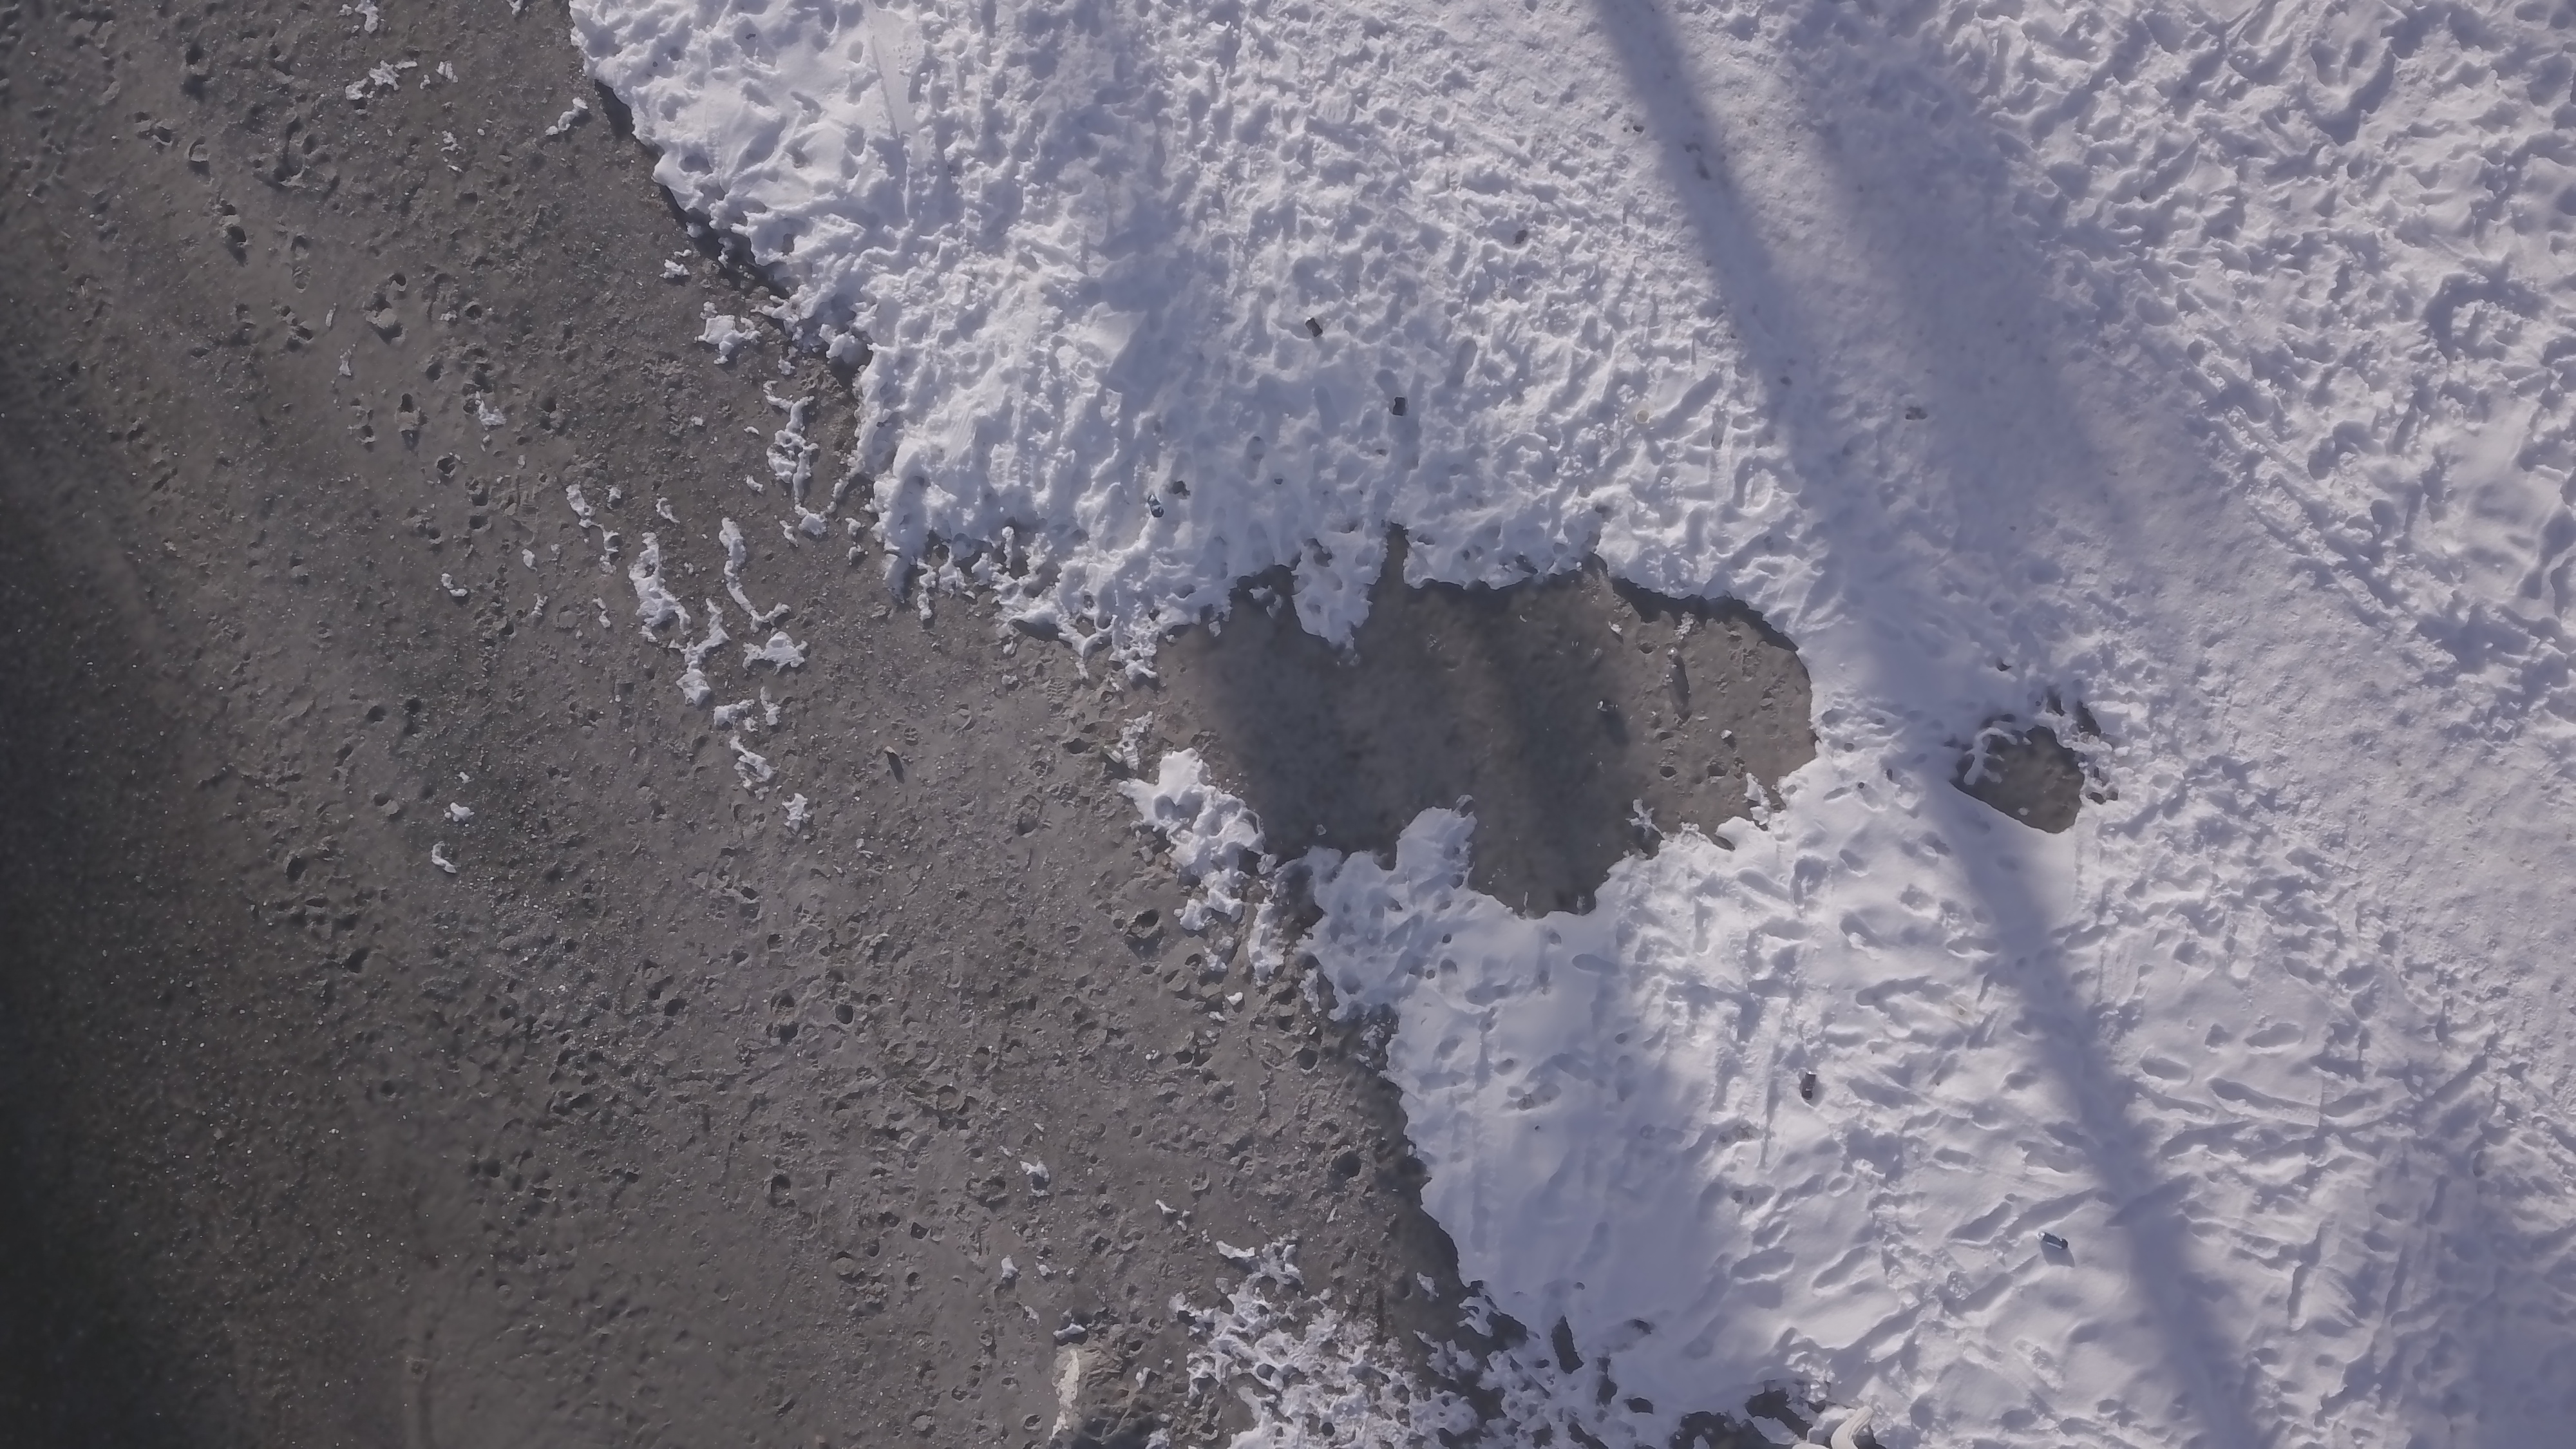Can: (2038, 1233, 2070, 1254), (1801, 1070, 1817, 1100), (1304, 317, 1323, 340), (1392, 395, 1407, 419), (1596, 701, 1621, 715)
Other: (1146, 495, 1164, 520), (1635, 405, 1652, 426)
